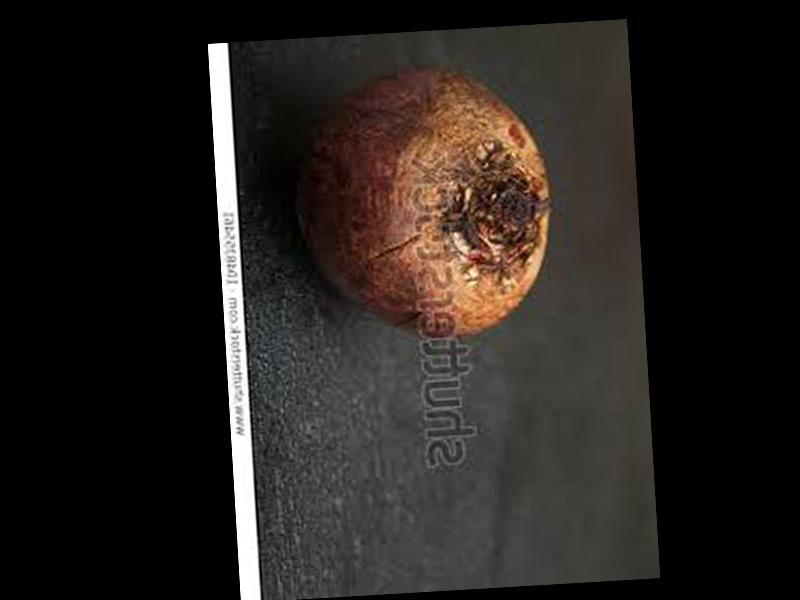Beet: (291, 55, 555, 343)
